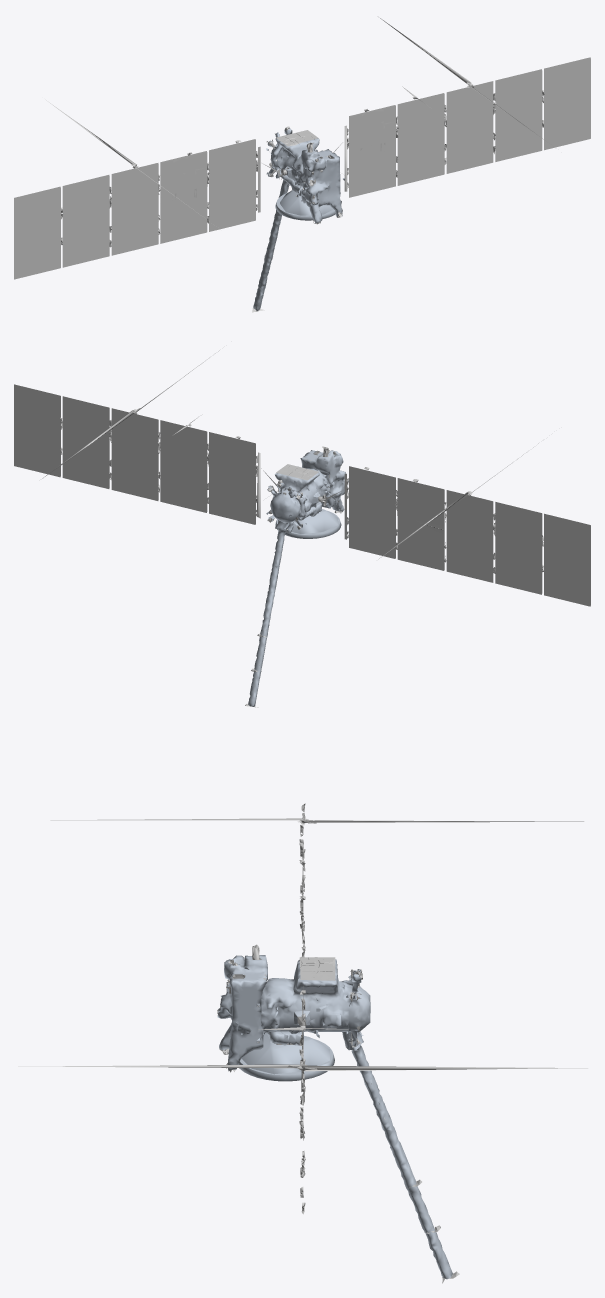
Rendered from Orbital Station.obj.
3 views of the same model, one above another, from view 1: azimuth 30°, elevation 25°; view 2: azimuth 150°, elevation 25°; view 3: azimuth 270°, elevation 25° (orthographic). The views are drawn at different scales.
Visible parts, largest first — view 1: solar_cells, solar_cells_chassis, blanket_hideable, blanket_soft, reason, bus_exposed, blanket_hard; view 2: solar_cells_chassis, blanket_hideable, blanket_soft, reason, solar_cells, bus_exposed, blanket_hard; view 3: blanket_hideable, blanket_soft, reason, solar_cells_chassis, blanket_hard, bus_exposed.
Boxes of the visible parts, x1,y1,x2,y2 form: solar_cells: (14,58,590,278); solar_cells_chassis: (14,57,590,279); blanket_hideable: (253,128,342,310); blanket_soft: (267,133,333,215); reason: (45,18,553,213); bus_exposed: (266,130,322,223); blanket_hard: (266,148,344,220); solar_cells_chassis: (14,384,590,606); blanket_hideable: (248,450,348,706); blanket_soft: (267,468,337,533); reason: (42,350,538,559); solar_cells: (60,396,590,605); bus_exposed: (267,464,342,529); blanket_hard: (266,466,344,538); blanket_hideable: (217,955,452,1279); blanket_soft: (242,959,370,1074); reason: (18,818,587,1071); solar_cells_chassis: (297,803,305,1214); blanket_hard: (235,975,351,1081); bus_exposed: (220,957,361,1054).
Bounding box in the file's own units: 30.5 × 11.24 × 17.55.
